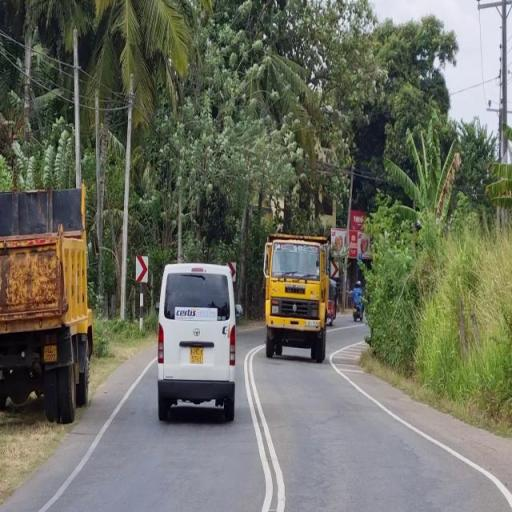double_white_line: (243, 343, 288, 512)
